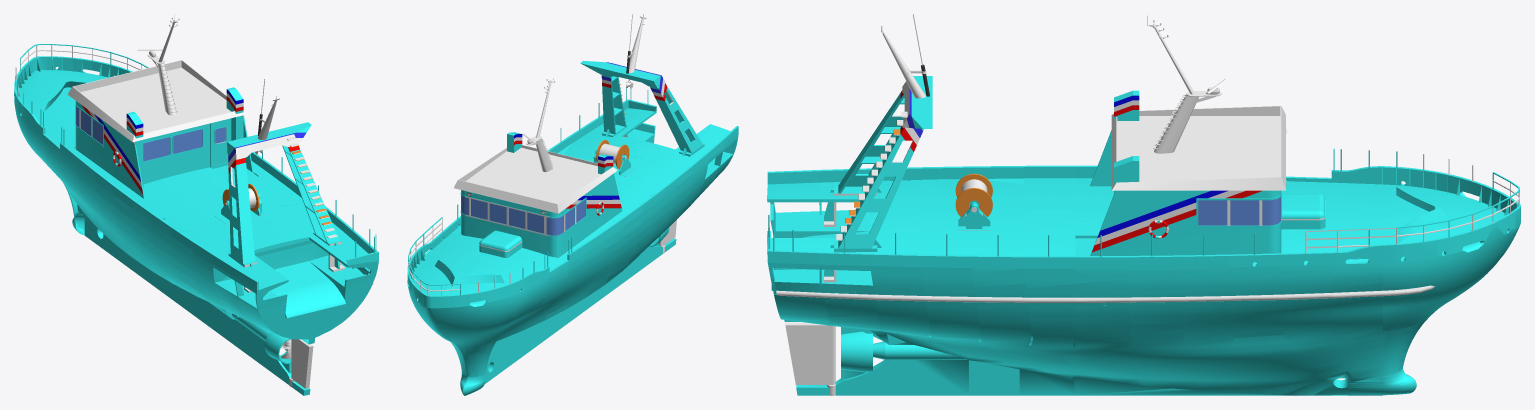
3 renders of one model, left to right at view 1: azimuth 30°, elevation 25°; view 2: azimuth 150°, elevation 25°; view 3: azimuth 270°, elevation 25°, orthographic. The views are drawn at different scales.
Parts seen in each view (by area): view 1: Group_001, plancher de cabine#3_001, Toit#1_001, Portique#2_001; view 2: Group_001, plancher de cabine#3_001, Toit#1_001, Portique#2_001; view 3: Group_001, plancher de cabine#3_001, Toit#1_001, Portique#2_001, Layer0_001.
Part boxes in pixels (x1,y1,x2,y2): Group_001: (14, 44, 378, 395); plancher de cabine#3_001: (75, 87, 253, 198); Toit#1_001: (67, 20, 247, 143); Portique#2_001: (214, 78, 345, 292); Group_001: (407, 88, 738, 395); plancher de cabine#3_001: (460, 132, 622, 257); Toit#1_001: (454, 81, 617, 213); Portique#2_001: (580, 14, 704, 176); Group_001: (767, 148, 1520, 395); plancher de cabine#3_001: (1090, 90, 1325, 255); Toit#1_001: (1111, 24, 1285, 192); Portique#2_001: (824, 14, 992, 282); Layer0_001: (776, 285, 1434, 302).
Bounding box in the file's own units: 272 × 526 × 946.
